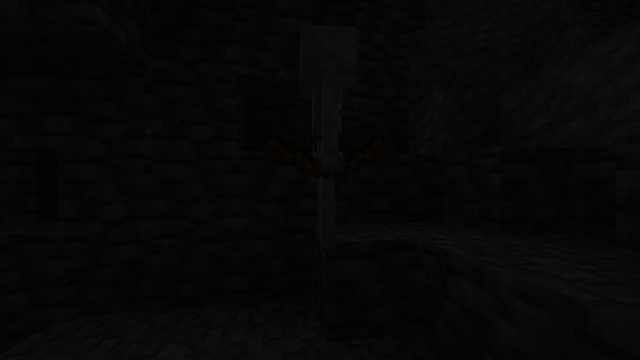squelettes: (293, 20, 364, 252)
